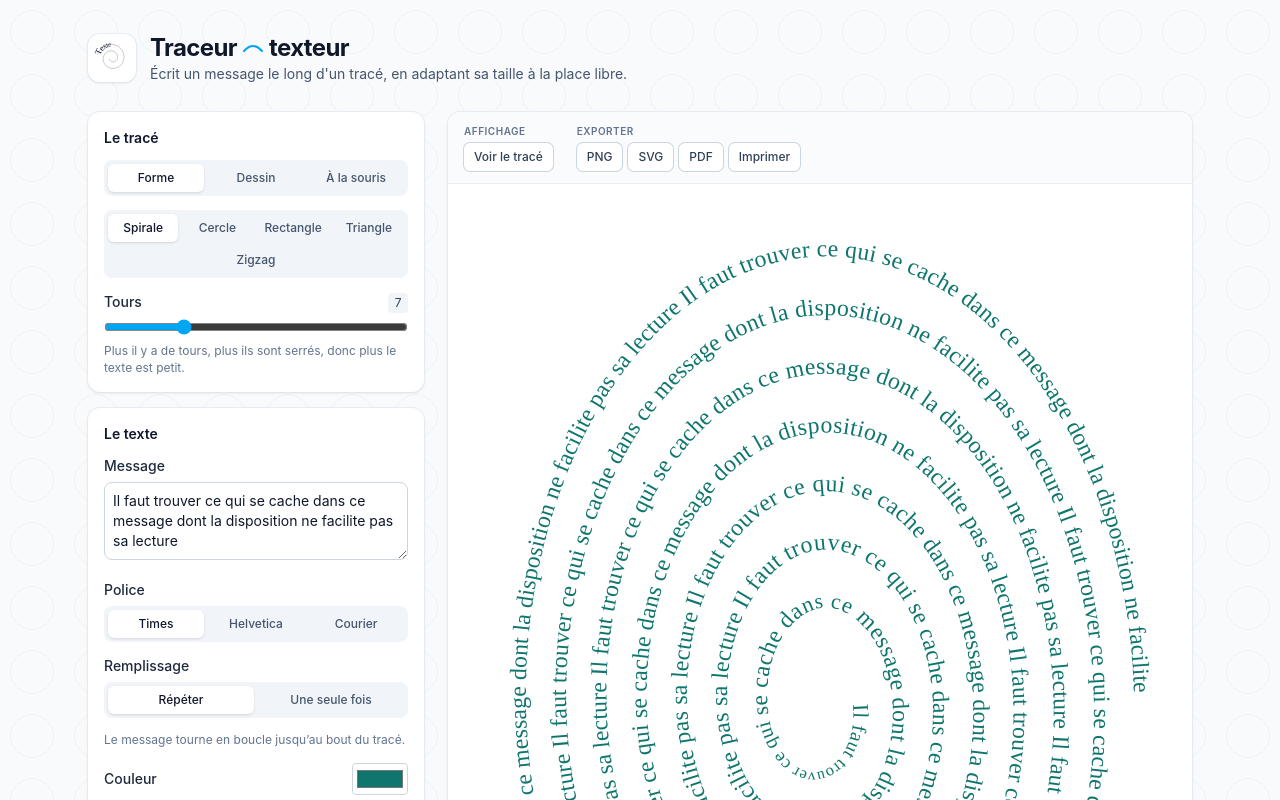
Test: App › n’expose les tours que pour la spirale
This screenshot has width=1280, height=800.
Expected: the slider labelled "Tours" is shown, x1=104 y1=319 x2=408 y2=335
Click the button "Cercle" at (217,228), box x1=182 y1=214 x2=252 y2=242
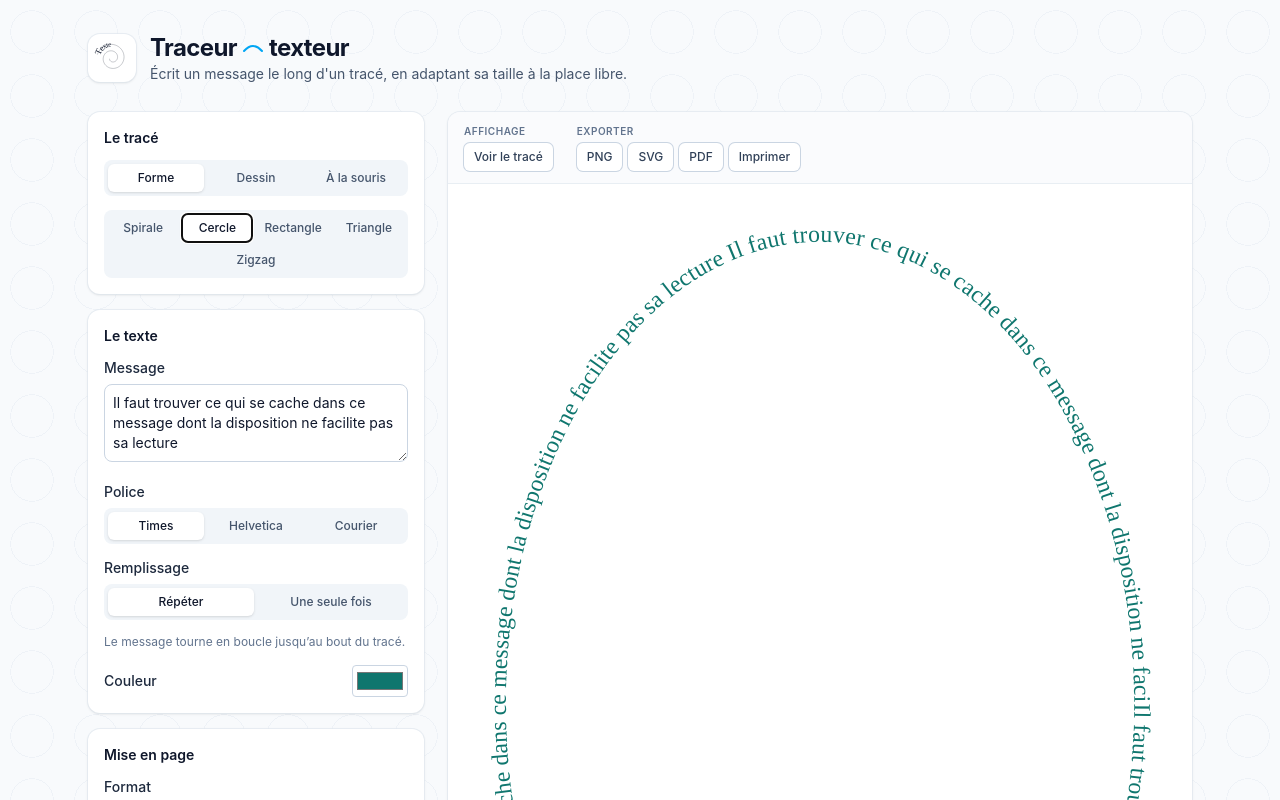
Now the text labelled "Tours" is gone
